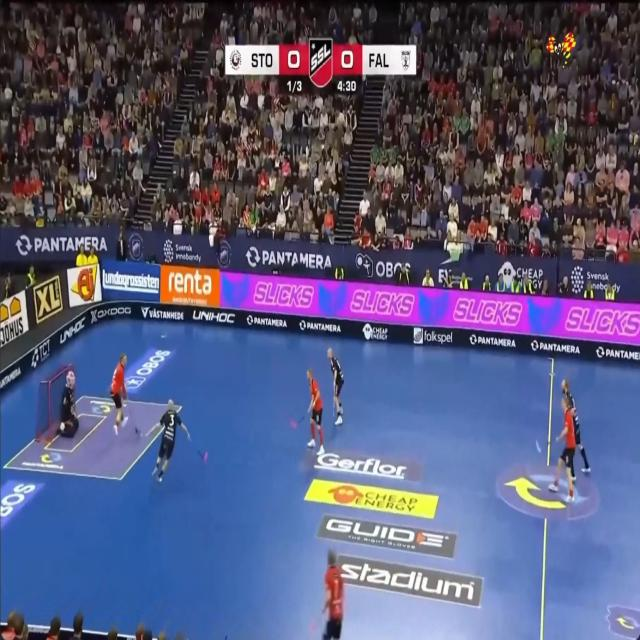player: (152, 399, 190, 482), (548, 397, 575, 502), (561, 379, 590, 473), (322, 550, 343, 639), (307, 369, 324, 455), (110, 353, 127, 434), (58, 371, 78, 436), (327, 348, 343, 425), (571, 465, 575, 480)
stick: (291, 415, 306, 428), (146, 424, 160, 436), (197, 449, 208, 463), (197, 450, 207, 463), (333, 382, 336, 418), (536, 441, 541, 453)
